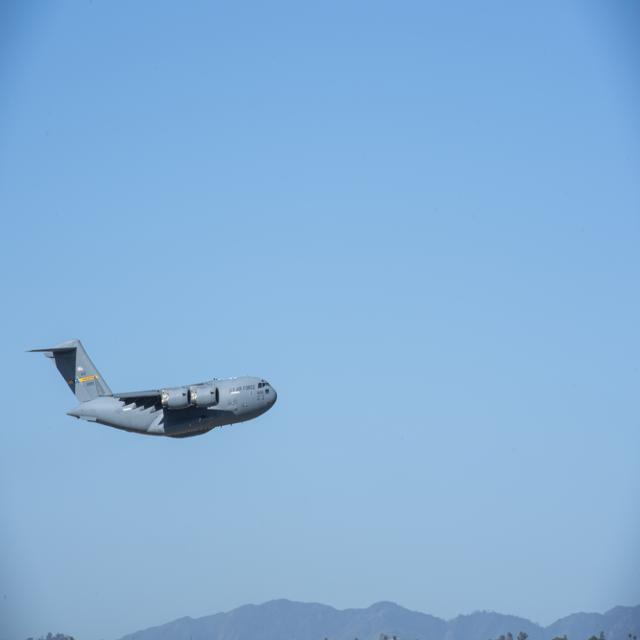MIL_Plane: (23, 340, 277, 436)
